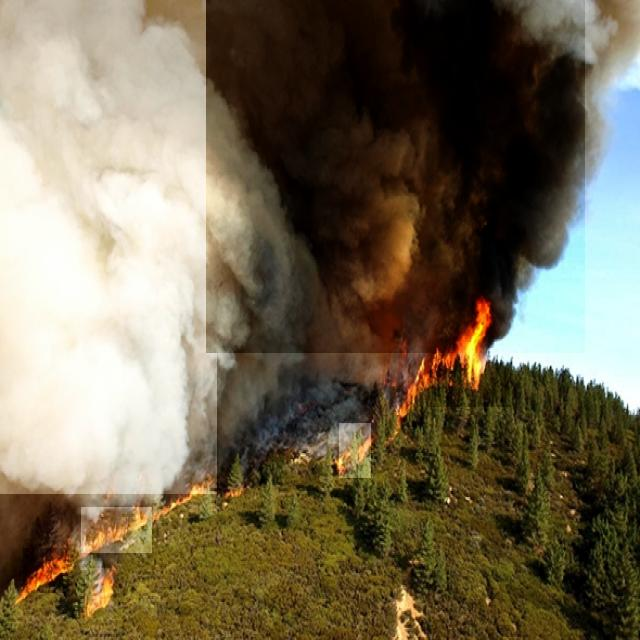Fire: (427, 297, 511, 407), (81, 507, 152, 553), (152, 484, 215, 518), (24, 548, 70, 593), (401, 350, 425, 424), (339, 423, 371, 478), (85, 568, 113, 620)
Smoke: (206, 0, 585, 353), (0, 0, 217, 494)
